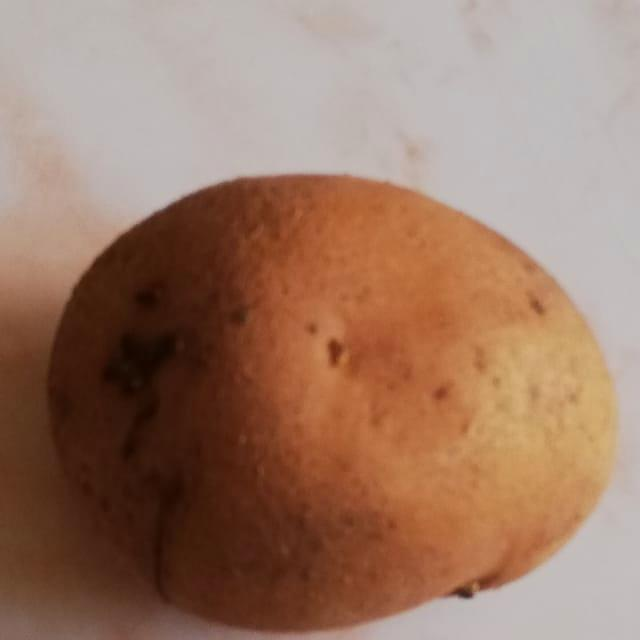potato: (32, 142, 640, 640)
